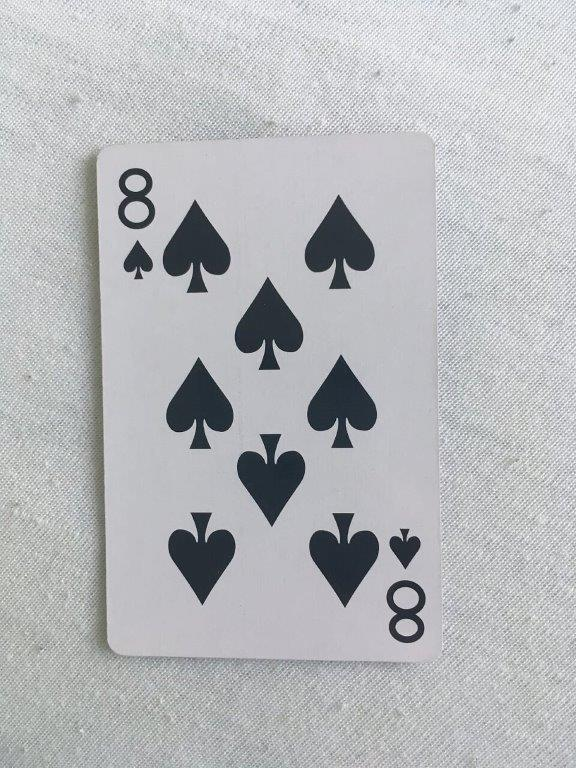8S: (92, 130, 447, 666)
